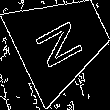N_NE: (32, 12, 91, 70)
